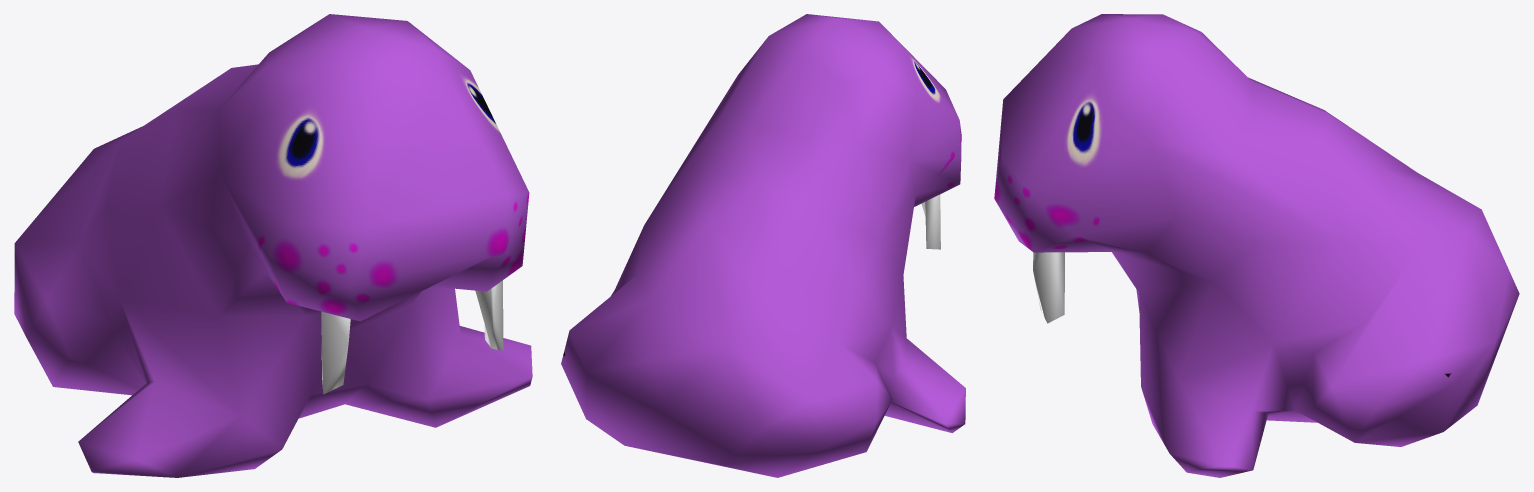
The model's file is foca_LOD1.fbx.
3 views of the same model, side by side, from view 1: azimuth 30°, elevation 25°; view 2: azimuth 150°, elevation 25°; view 3: azimuth 270°, elevation 25° (orthographic). The views are drawn at different scales.
Parts seen in each view (by area): view 1: Group57339; view 2: Group57339; view 3: Group57339.
Boxes of the visible parts, x1,y1,x2,y2 form: Group57339: [14, 14, 532, 477]; Group57339: [561, 14, 965, 477]; Group57339: [994, 14, 1519, 477].
Size of the model in its own units: 861 by 815 by 1031.
Materials: 2 (1 with a texture image).
